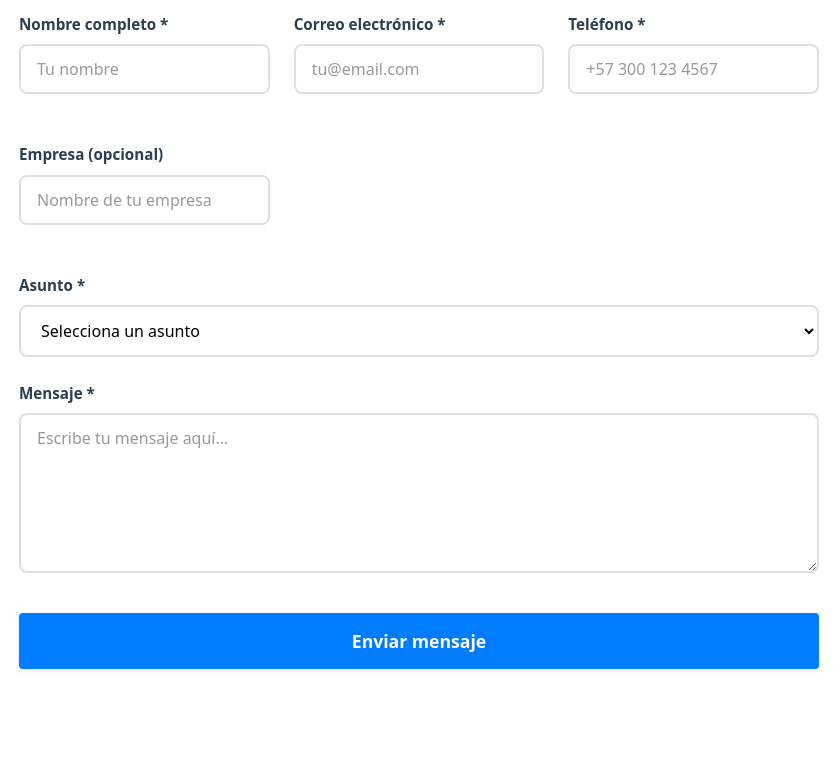
ContactForm › envía el formulario con datos válidos
Type "Cliente Prueba QA" into the field labelled "Nombre completo *" at point(144, 69), box top-left (19, 44), bottom-right (270, 94)
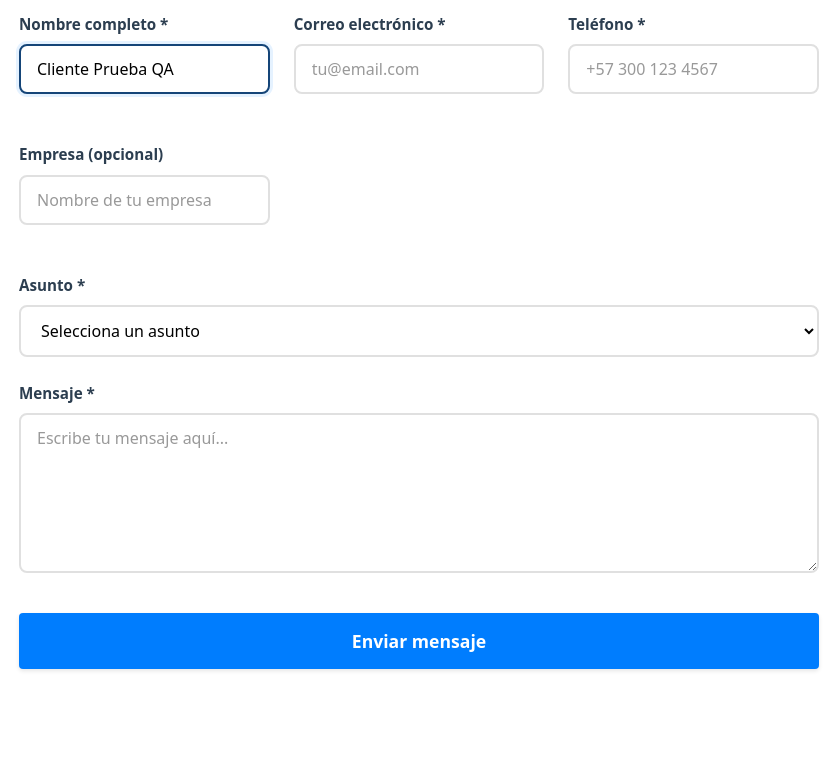
Type "cliente@prueba.com" into the field labelled "Correo electrónico *" at point(419, 69), box top-left (294, 44), bottom-right (544, 94)
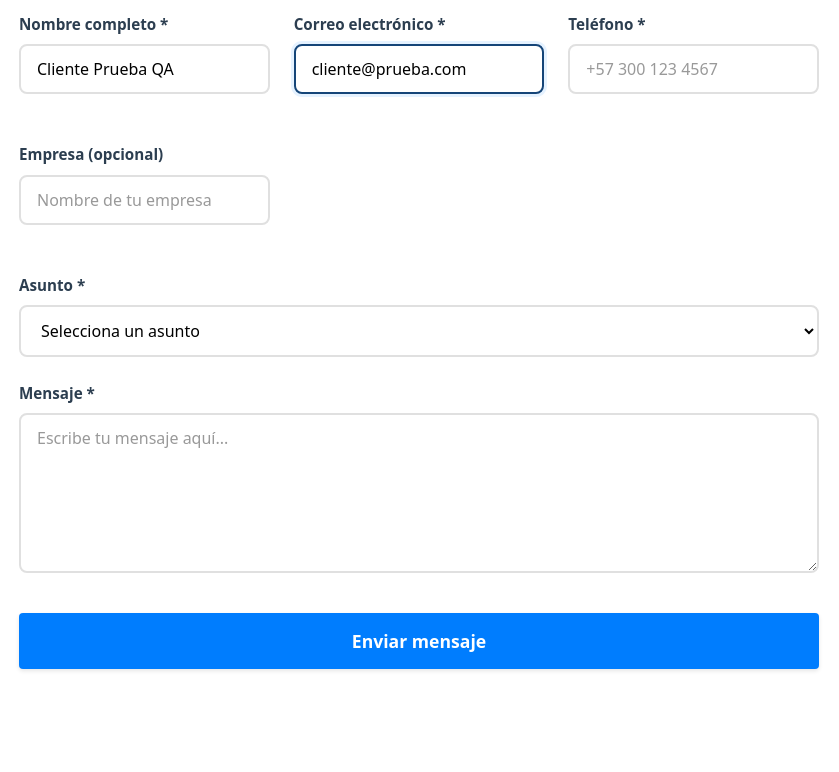
Type "3001234567" into the field labelled "Teléfono *" at point(694, 69), box top-left (568, 44), bottom-right (819, 94)
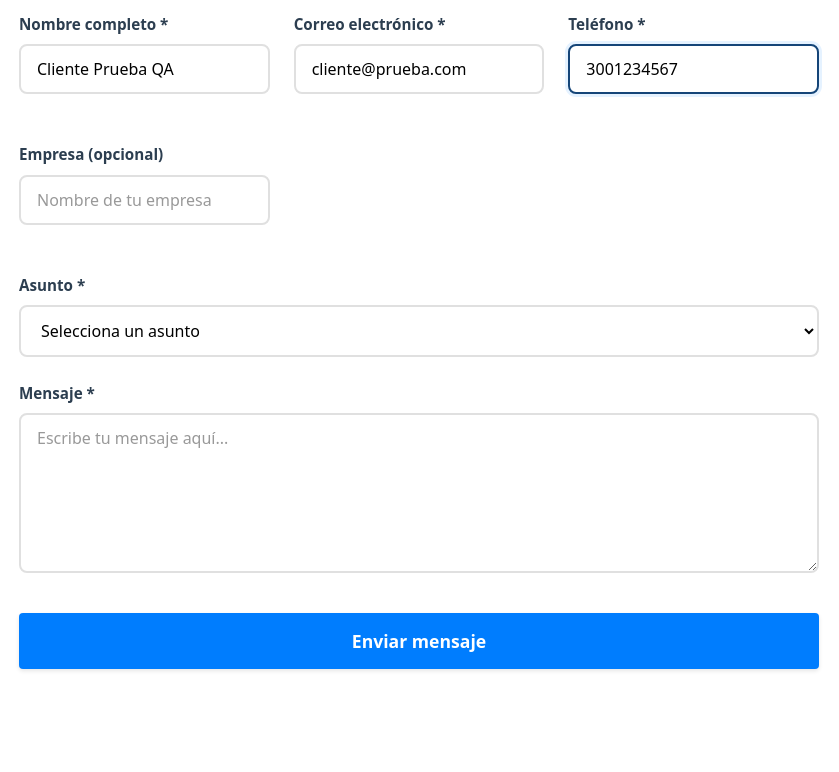
Select "Información de productos" in the dropdown labelled "Asunto *" at point(419, 331), box top-left (19, 305), bottom-right (819, 357)
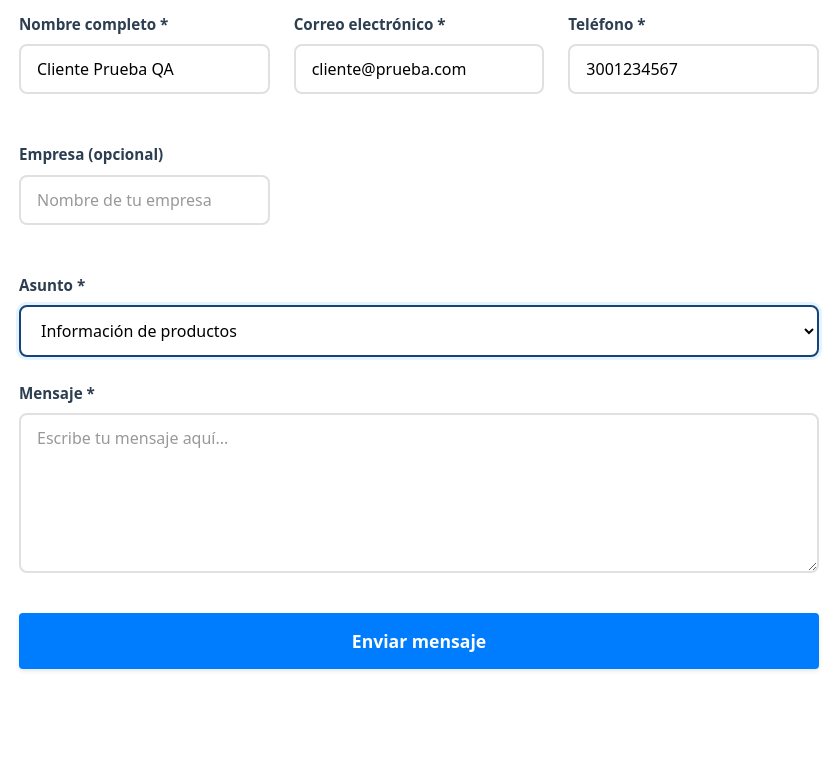
Type "Necesito información detallada de sus productos." into the text box labelled "Mensaje *" at point(419, 493), box top-left (19, 413), bottom-right (819, 573)
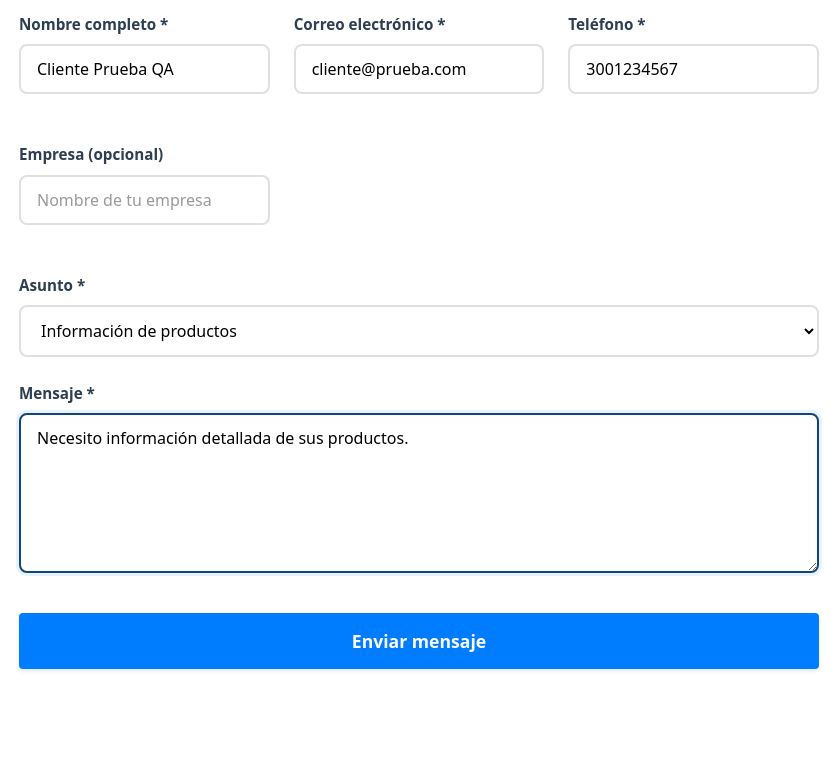
Click the button "Enviar mensaje" at point(419, 641), box top-left (19, 613), bottom-right (819, 669)
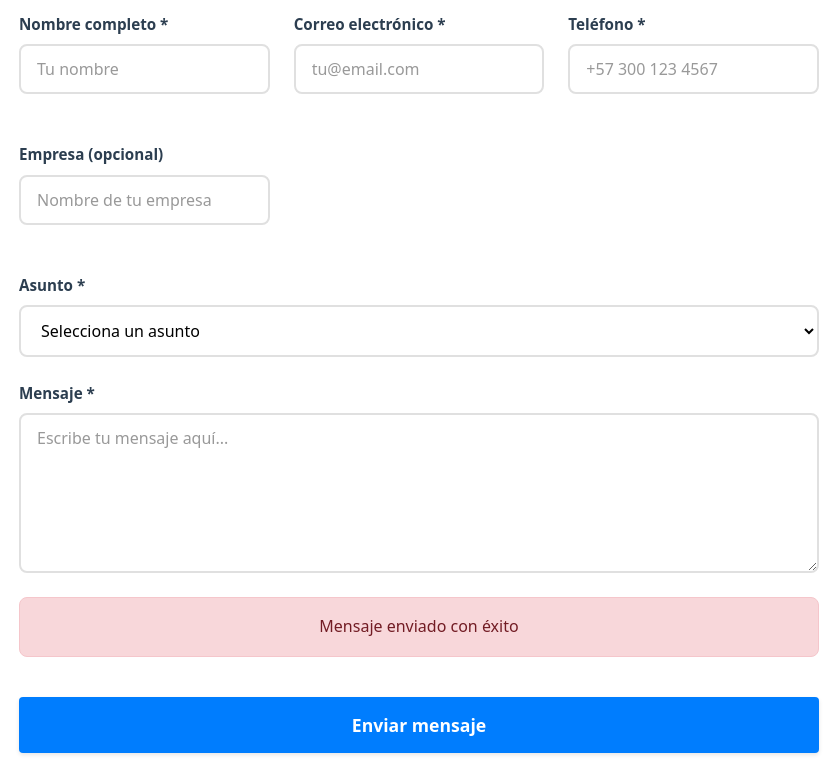
Expected: the text "Mensaje enviado con éxito" is shown, top-left (19, 597), bottom-right (819, 657)
